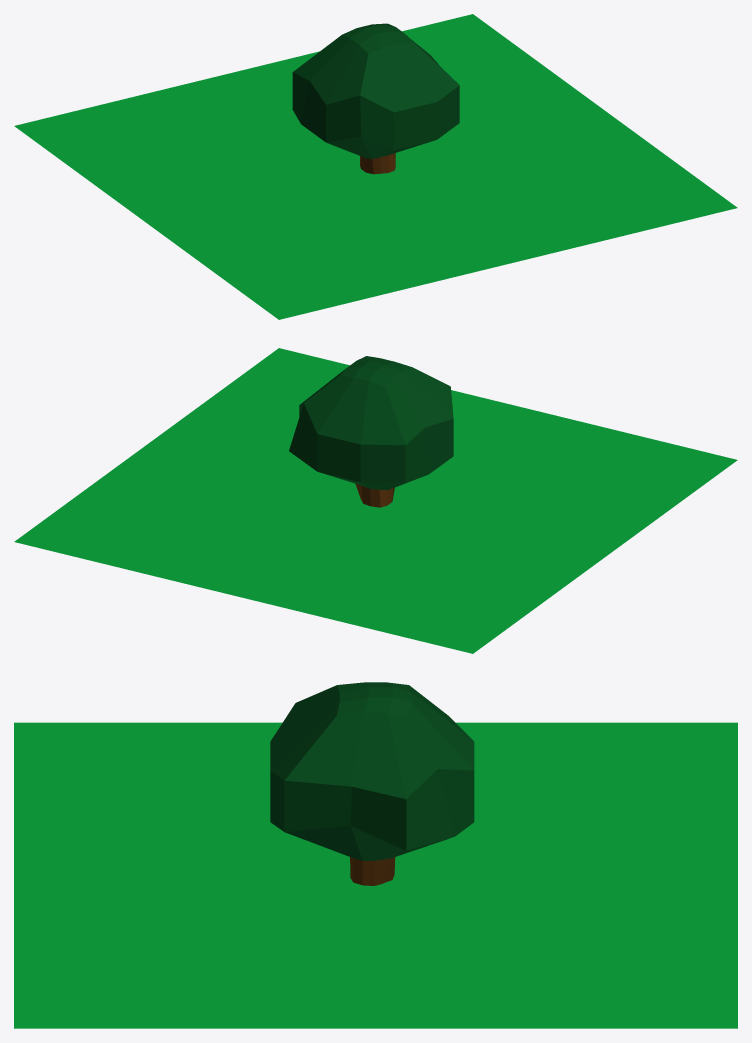
Rendered from Grass2.fbx.
3 views of the same model, one above another, from view 1: azimuth 30°, elevation 25°; view 2: azimuth 150°, elevation 25°; view 3: azimuth 270°, elevation 25° (orthographic). The views are drawn at different scales.
Parts seen in each view (by area): view 1: Plane; view 2: Plane; view 3: Plane.
Part boxes in pixels (<box>): Plane: <box>14,14,737,319</box>; Plane: <box>14,348,737,653</box>; Plane: <box>14,682,737,1028</box>.
Bounding box in the file's own units: 100 × 28.94 × 100.
